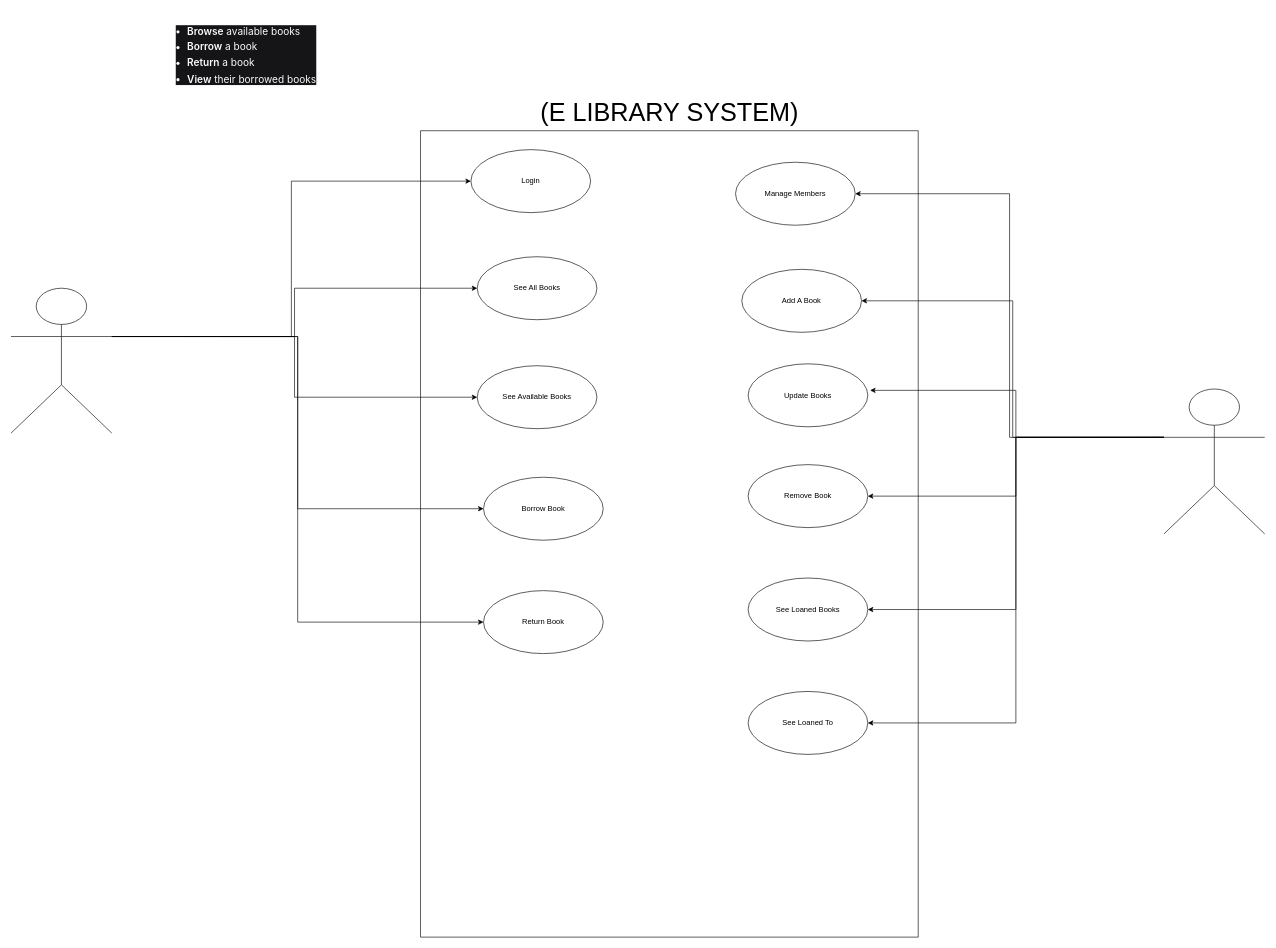
Some shapes in this 1276 by 948 pixel diagram are drawn without their labels. Each missing label, with the centre of its shape:
Librarian: (1214,461)
Member: (61,360)
